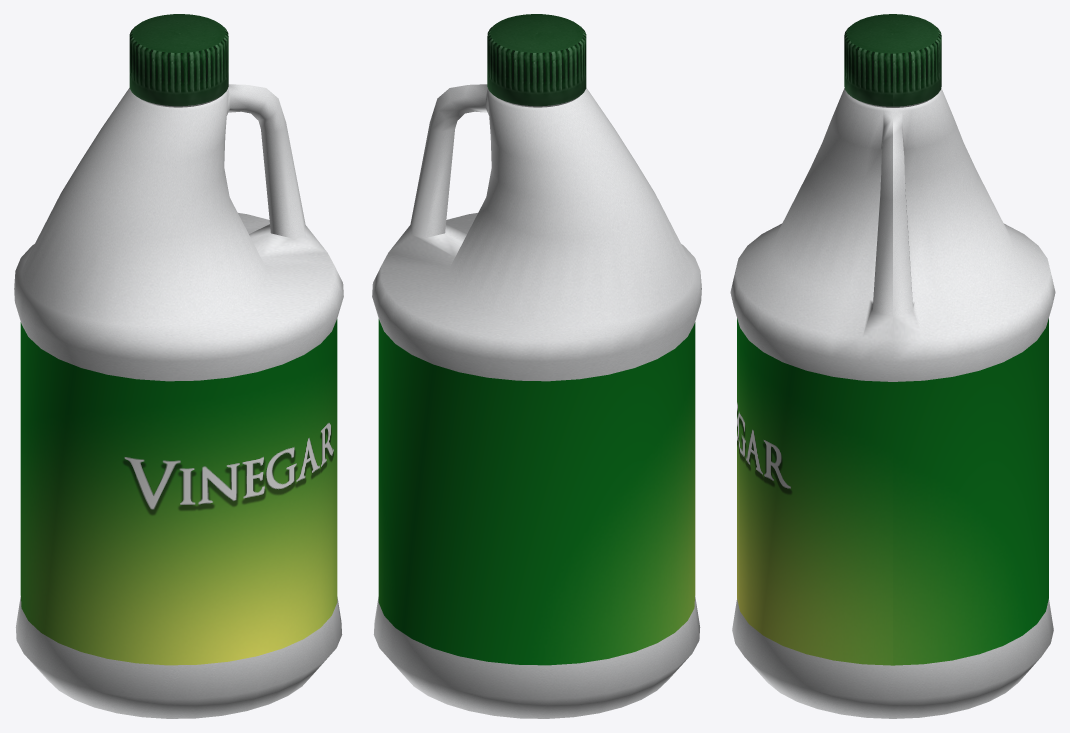
Rendered from vinegar.fbx.
3 renders of one model, left to right at view 1: azimuth 30°, elevation 25°; view 2: azimuth 150°, elevation 25°; view 3: azimuth 270°, elevation 25°, orthographic.
Visible parts, largest first — view 1: vinegar; view 2: vinegar; view 3: vinegar.
Part boxes in pixels (left/top/right/bottom): vinegar: left=14, top=14, right=343, bottom=718; vinegar: left=372, top=14, right=701, bottom=718; vinegar: left=730, top=14, right=1055, bottom=718.
Size of the model in its own units: 11.95 by 24.91 by 11.71.
Materials: 2 (2 with a texture image).
